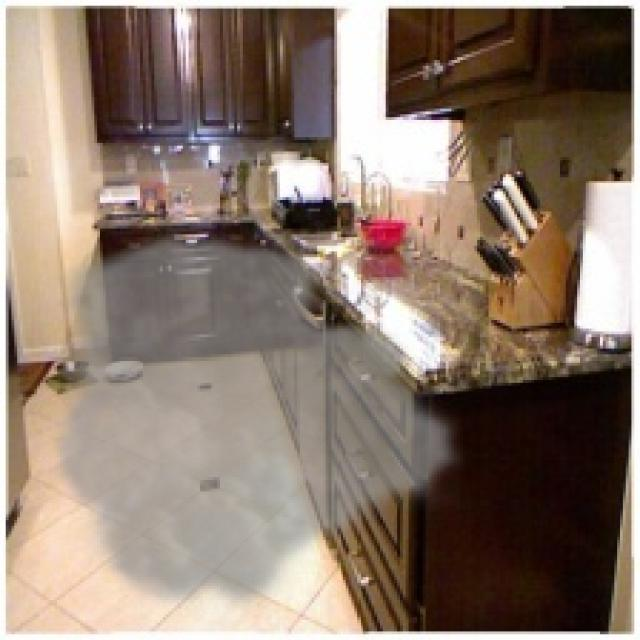smoke: (49, 226, 468, 617)
